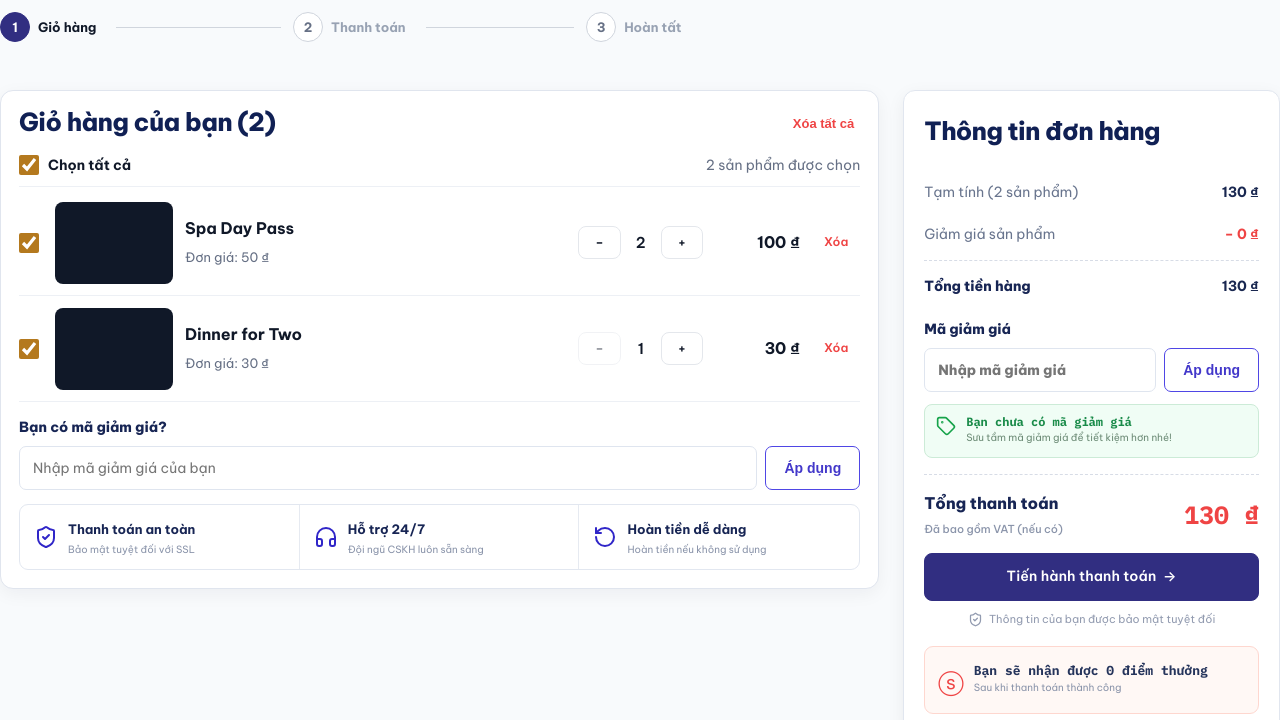
CartPage › optimistically removes an item and recalculates the total
The width and height of the screenshot is (1280, 720).
Check: the text "Spa Day Pass" is shown, box x1=185 y1=218 x2=294 y2=238
Click the button with aria-label "xóa spa day pass khỏi giỏ hàng".
click(836, 242)  # box x1=812 y1=230 x2=860 y2=255
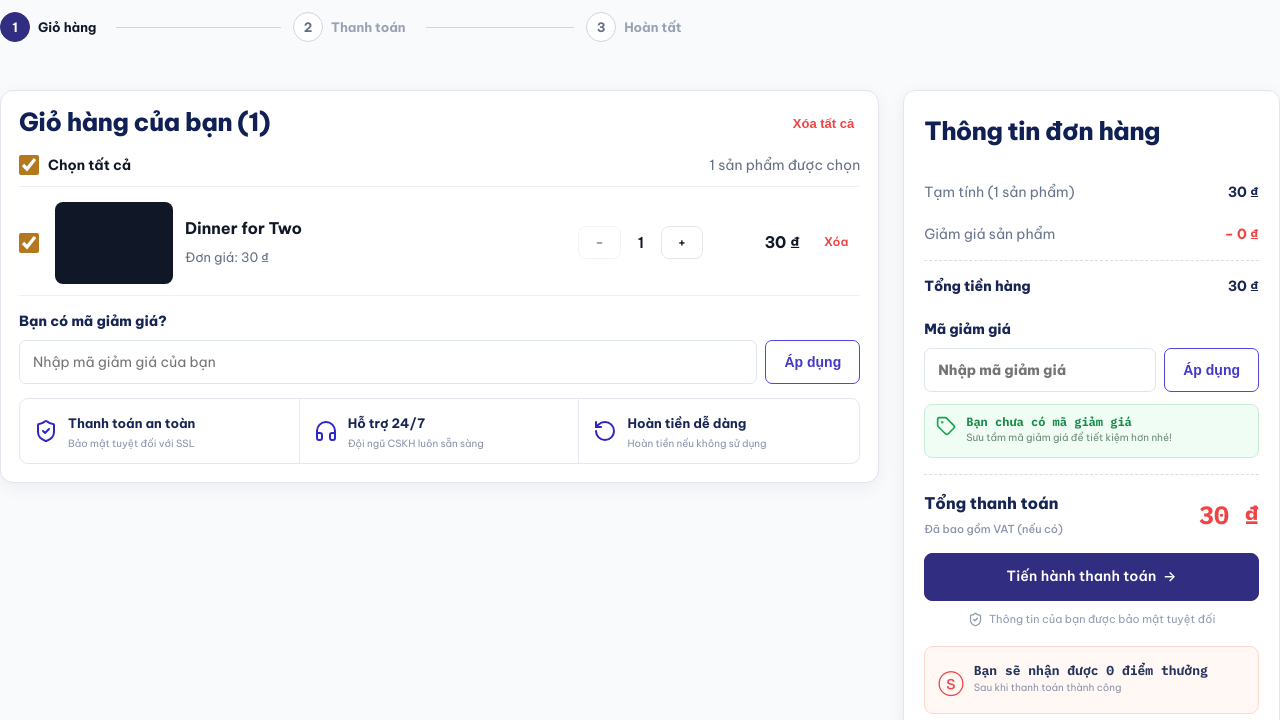
Check: the text "Spa Day Pass" is gone
